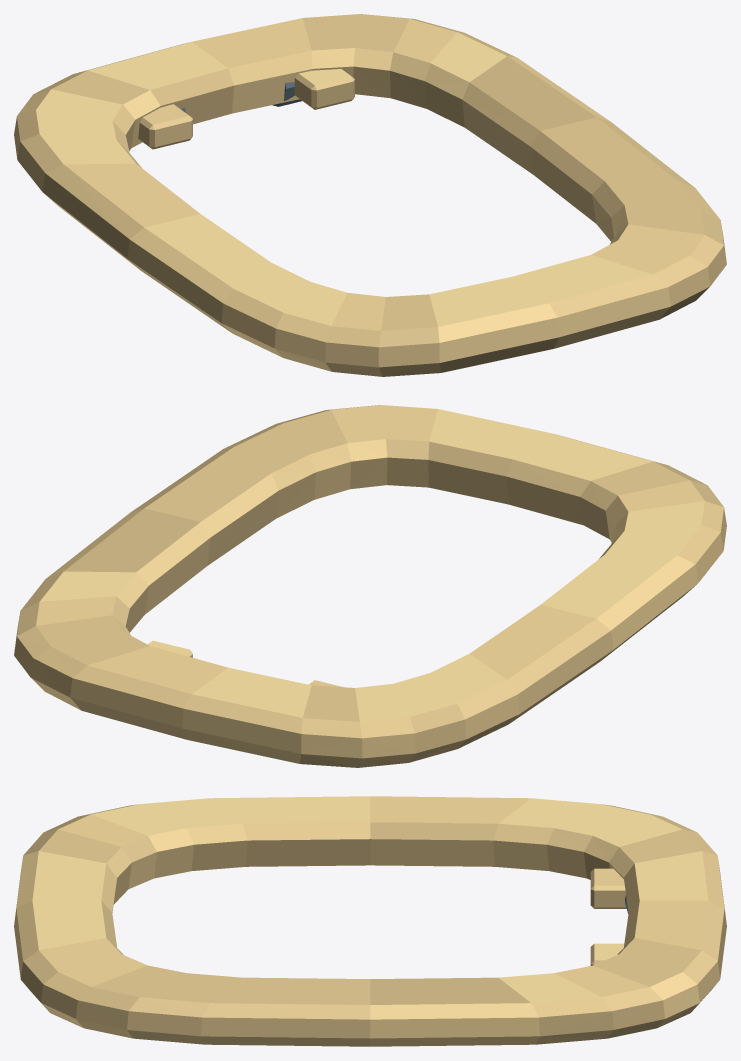
The model's file is EB_SquareSeat.fbx.
3 views of the same model, one above another, from view 1: azimuth 30°, elevation 25°; view 2: azimuth 150°, elevation 25°; view 3: azimuth 270°, elevation 25° (orthographic). The views are drawn at different scales.
Visible parts, largest first — view 1: EB_SquareSeat; view 2: EB_SquareSeat; view 3: EB_SquareSeat.
Part boxes in pixels (x1,y1,x2,y2): EB_SquareSeat: (14, 14, 726, 376); EB_SquareSeat: (14, 405, 726, 767); EB_SquareSeat: (14, 796, 726, 1046).
Size of the model in its own units: 0.432 by 0.046 by 0.58.
